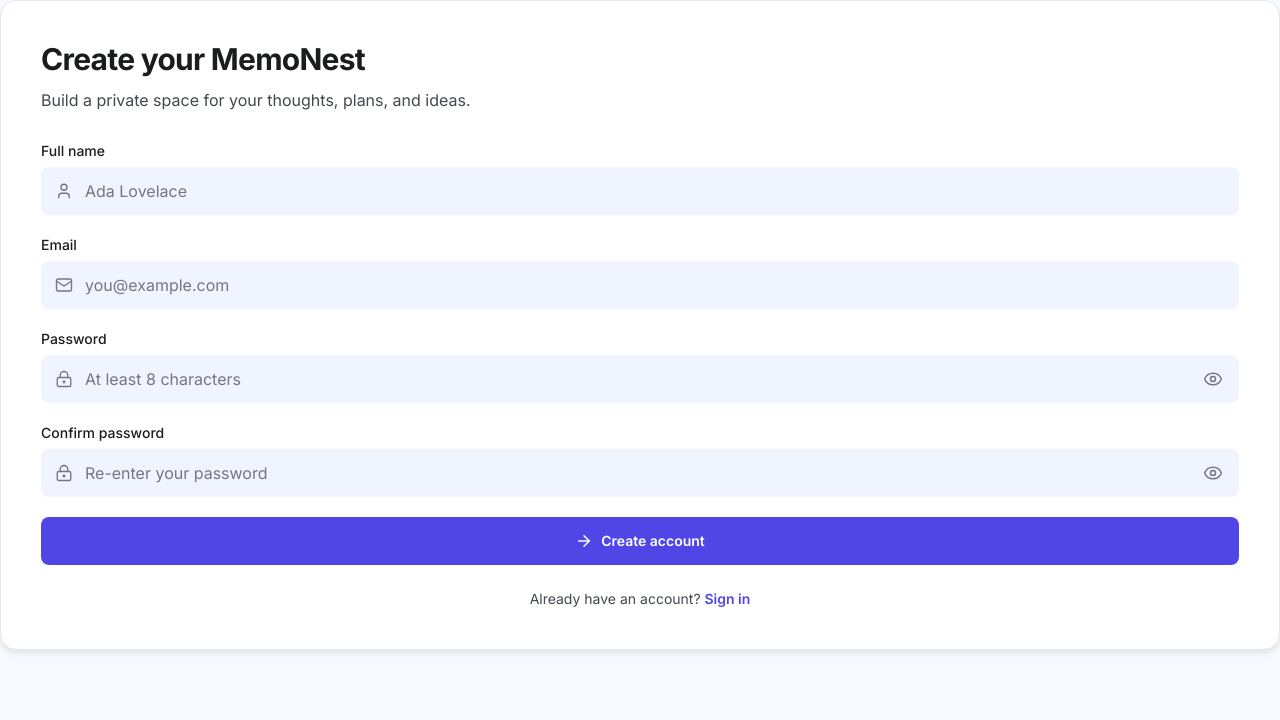
Scenario: SignupPage › shows validation errors and does not submit an empty form
This screenshot has width=1280, height=720.
Click the button "Create account" at {"x": 640, "y": 540}, box [41, 516, 1239, 564]
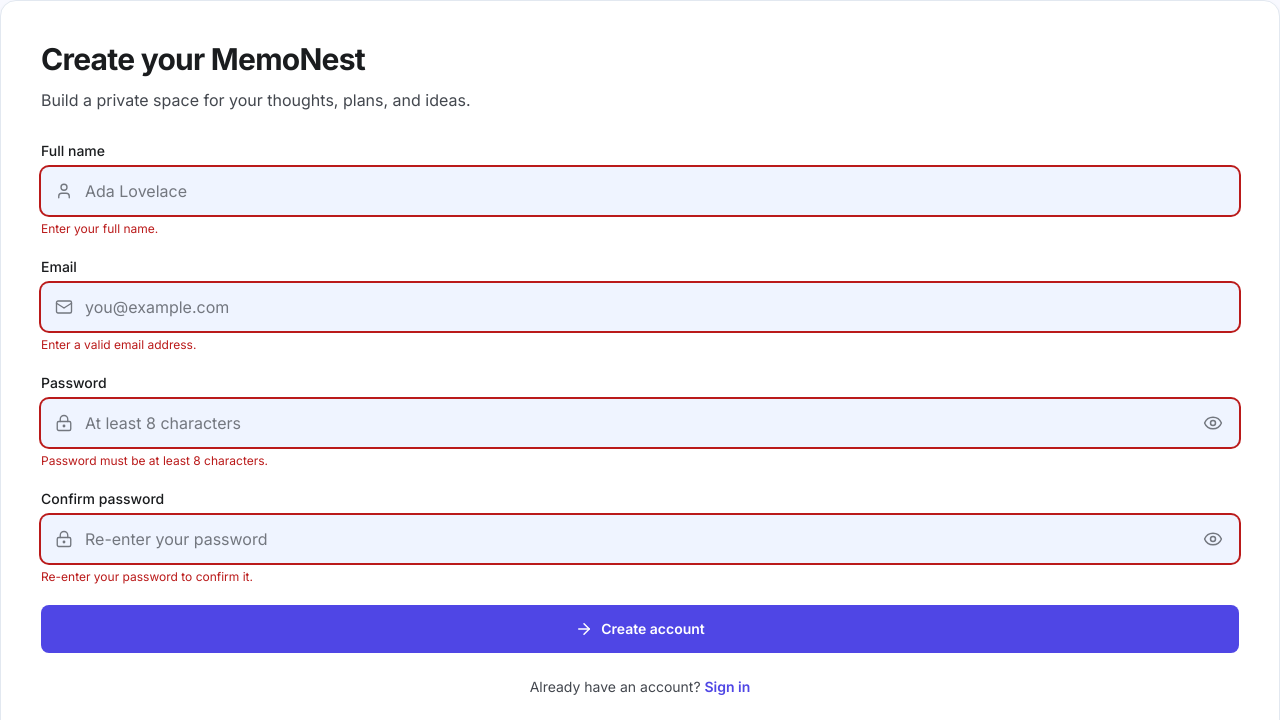
Expected: the text "Enter your full name." is shown, [41, 220, 158, 236]
Expected: the text "Enter a valid email address." is shown, [41, 336, 196, 352]
Expected: the text "Password must be at least 8 characters." is shown, [41, 452, 268, 468]
